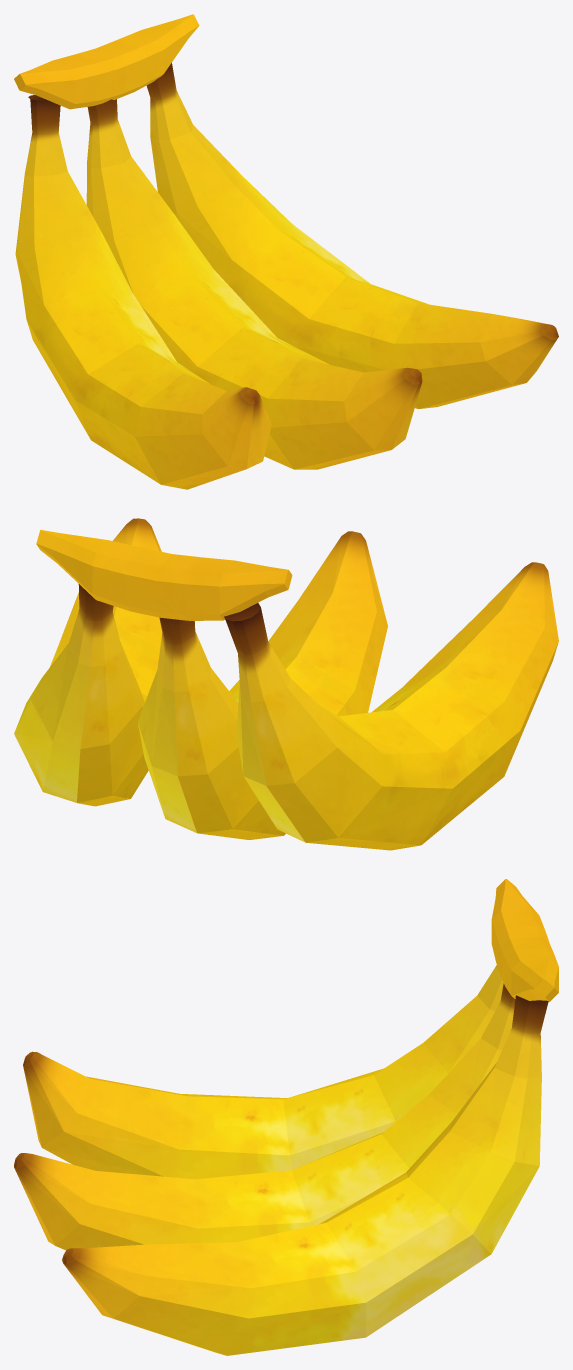
Rendered from bananas.glb.
3 renders of one model, top to bottom at view 1: azimuth 30°, elevation 25°; view 2: azimuth 150°, elevation 25°; view 3: azimuth 270°, elevation 25°, orthographic. The views are drawn at different scales.
Parts seen in each view (by area): view 1: Cube.001_Material.001_0; view 2: Cube.001_Material.001_0; view 3: Cube.001_Material.001_0.
Boxes of the visible parts, x1,y1,x2,y2 form: Cube.001_Material.001_0: [14, 14, 558, 489]; Cube.001_Material.001_0: [14, 518, 558, 850]; Cube.001_Material.001_0: [14, 879, 558, 1355].
Bounding box in the file's own units: 1.04 × 0.8211 × 1.18.
1 material, 1 textured.
